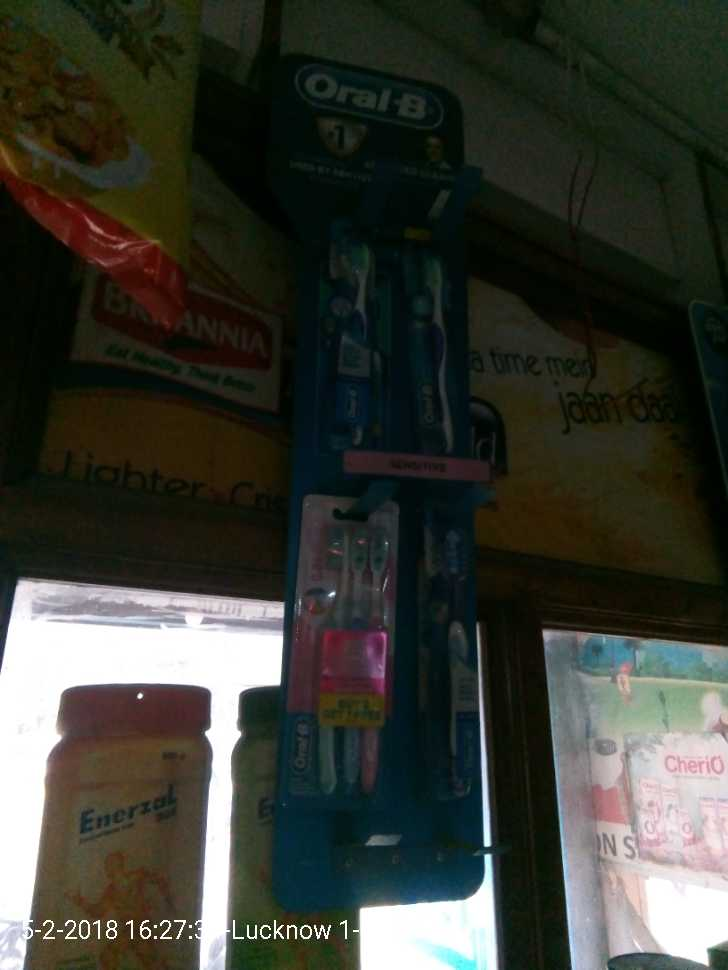oralb: (289, 493, 385, 795), (394, 187, 457, 458), (420, 498, 475, 798), (322, 219, 383, 441)
